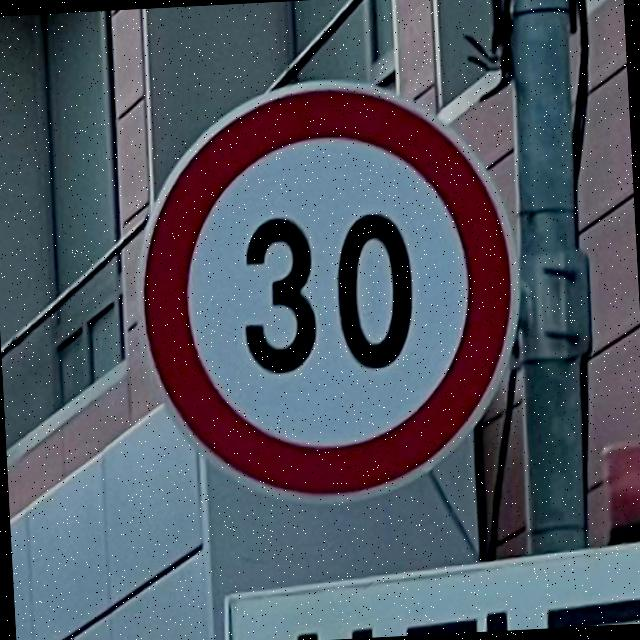Ograniczenie predkosci do 30: (126, 70, 524, 514)
